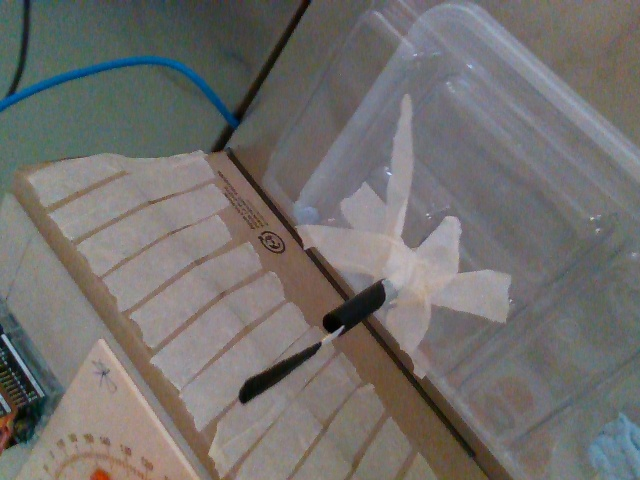test_strip: (236, 321, 339, 406)
